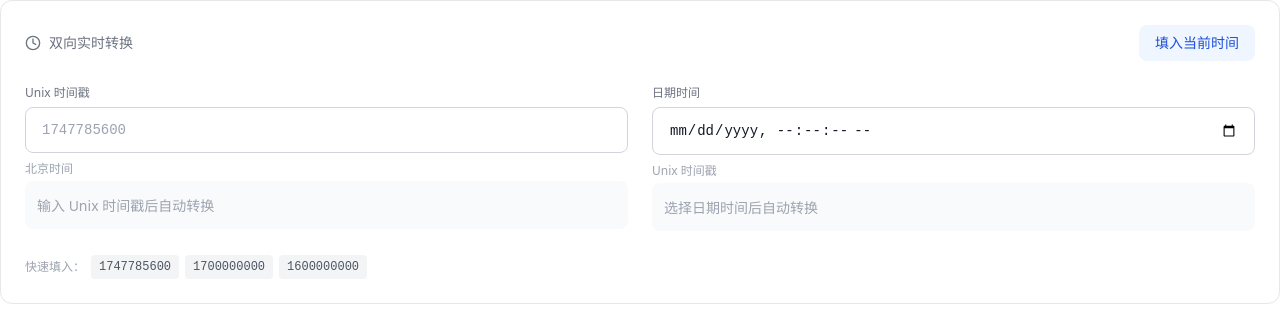
UnixTimestampConverter › converts unix timestamp to date in real-time
In the field with placeholder "1747785600": (326, 130) [25,107,628,153], type "1700000000"
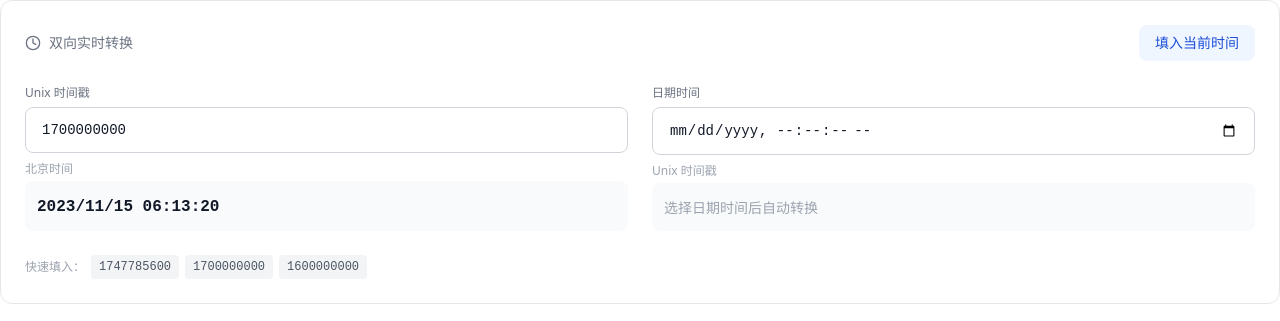
Now the text "2023/11/15 06:13:20" is shown, box [37,198,219,216]
